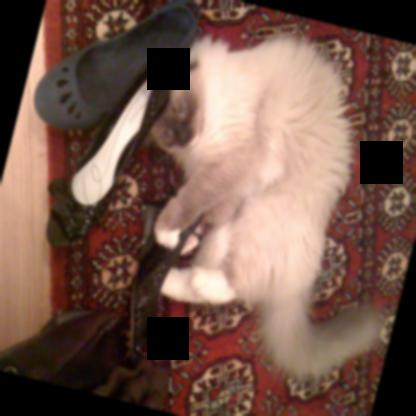handbag: (0, 210, 207, 411)
